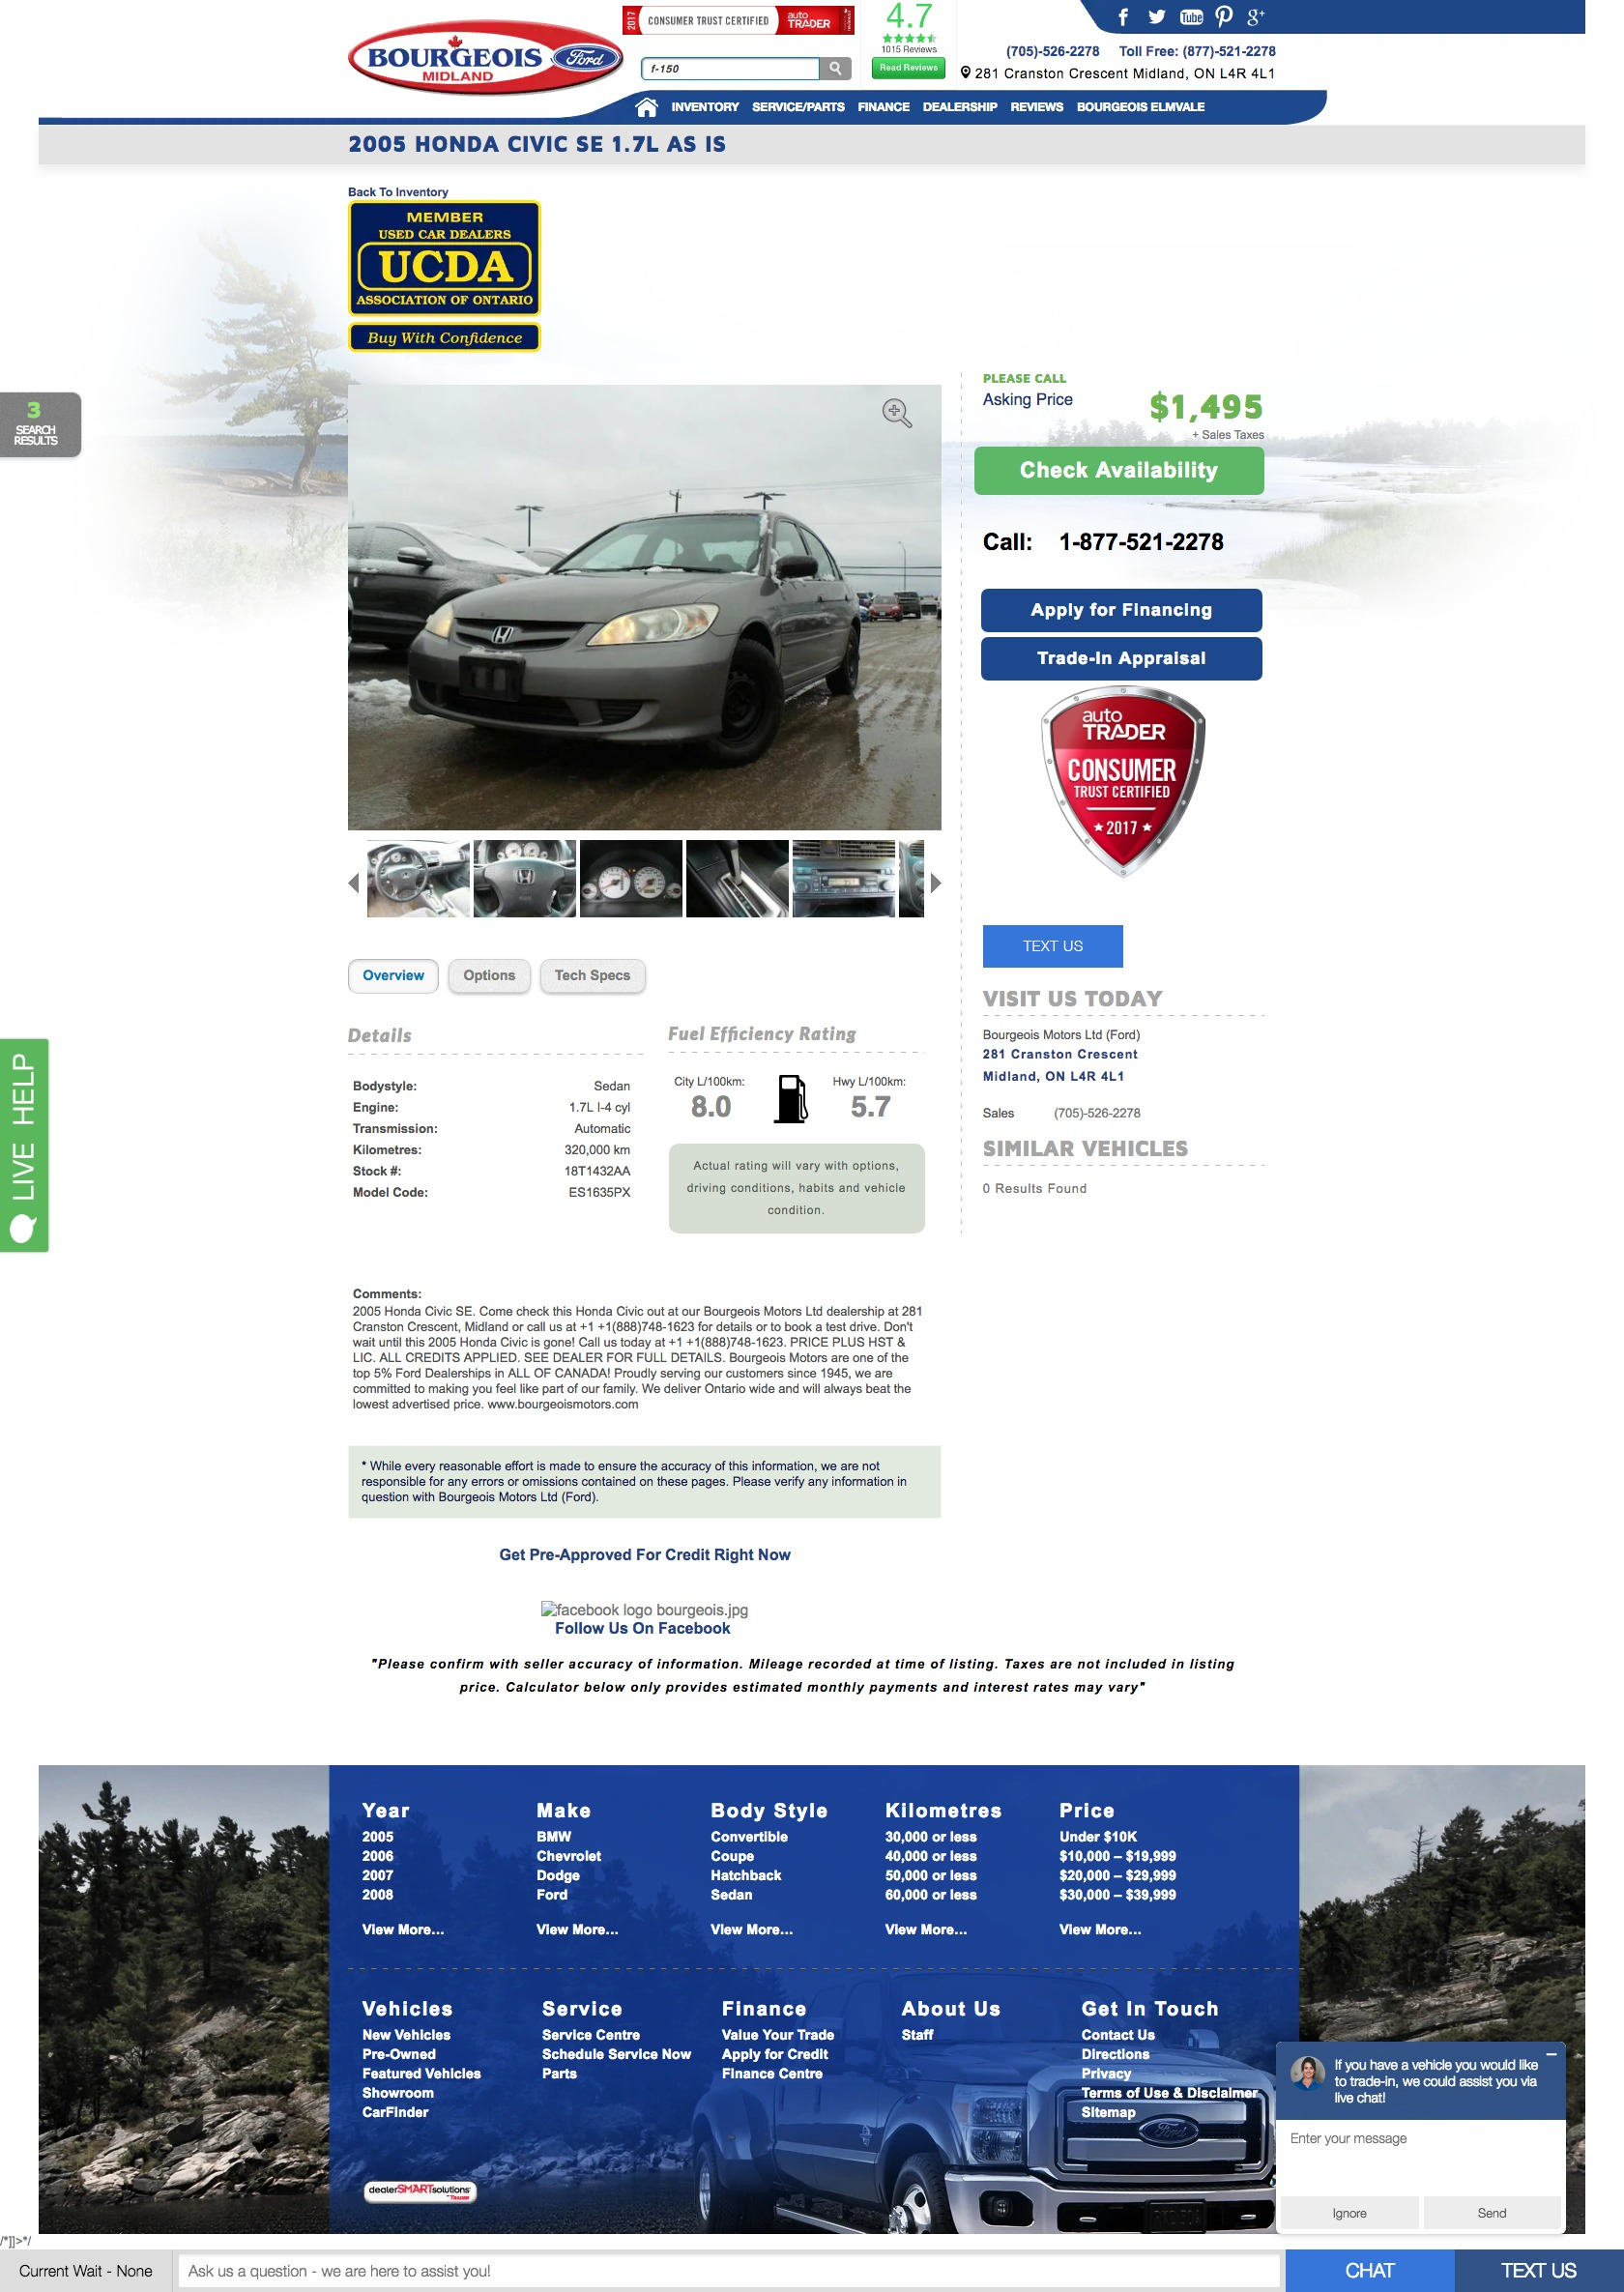car: (932, 874, 942, 895)
